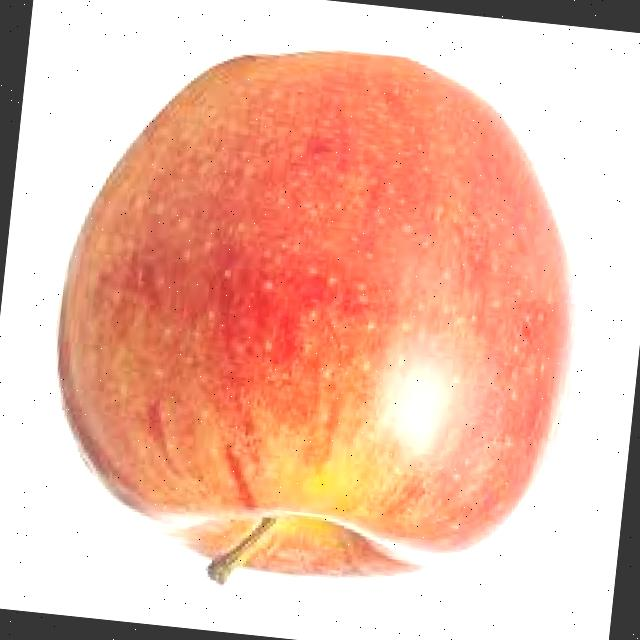apple: (29, 21, 610, 626)
